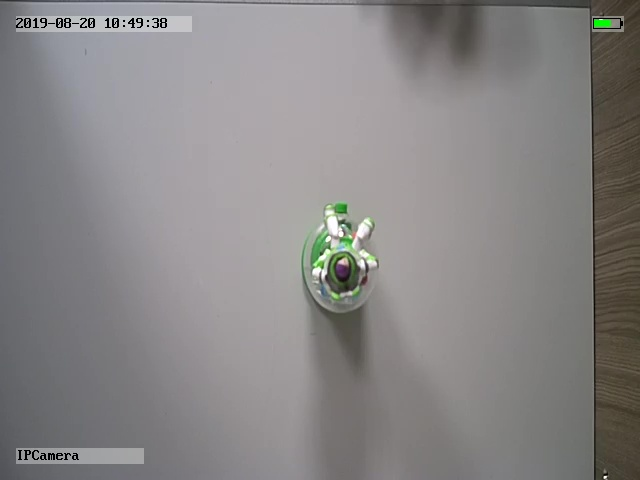buzz: (298, 201, 383, 317)
